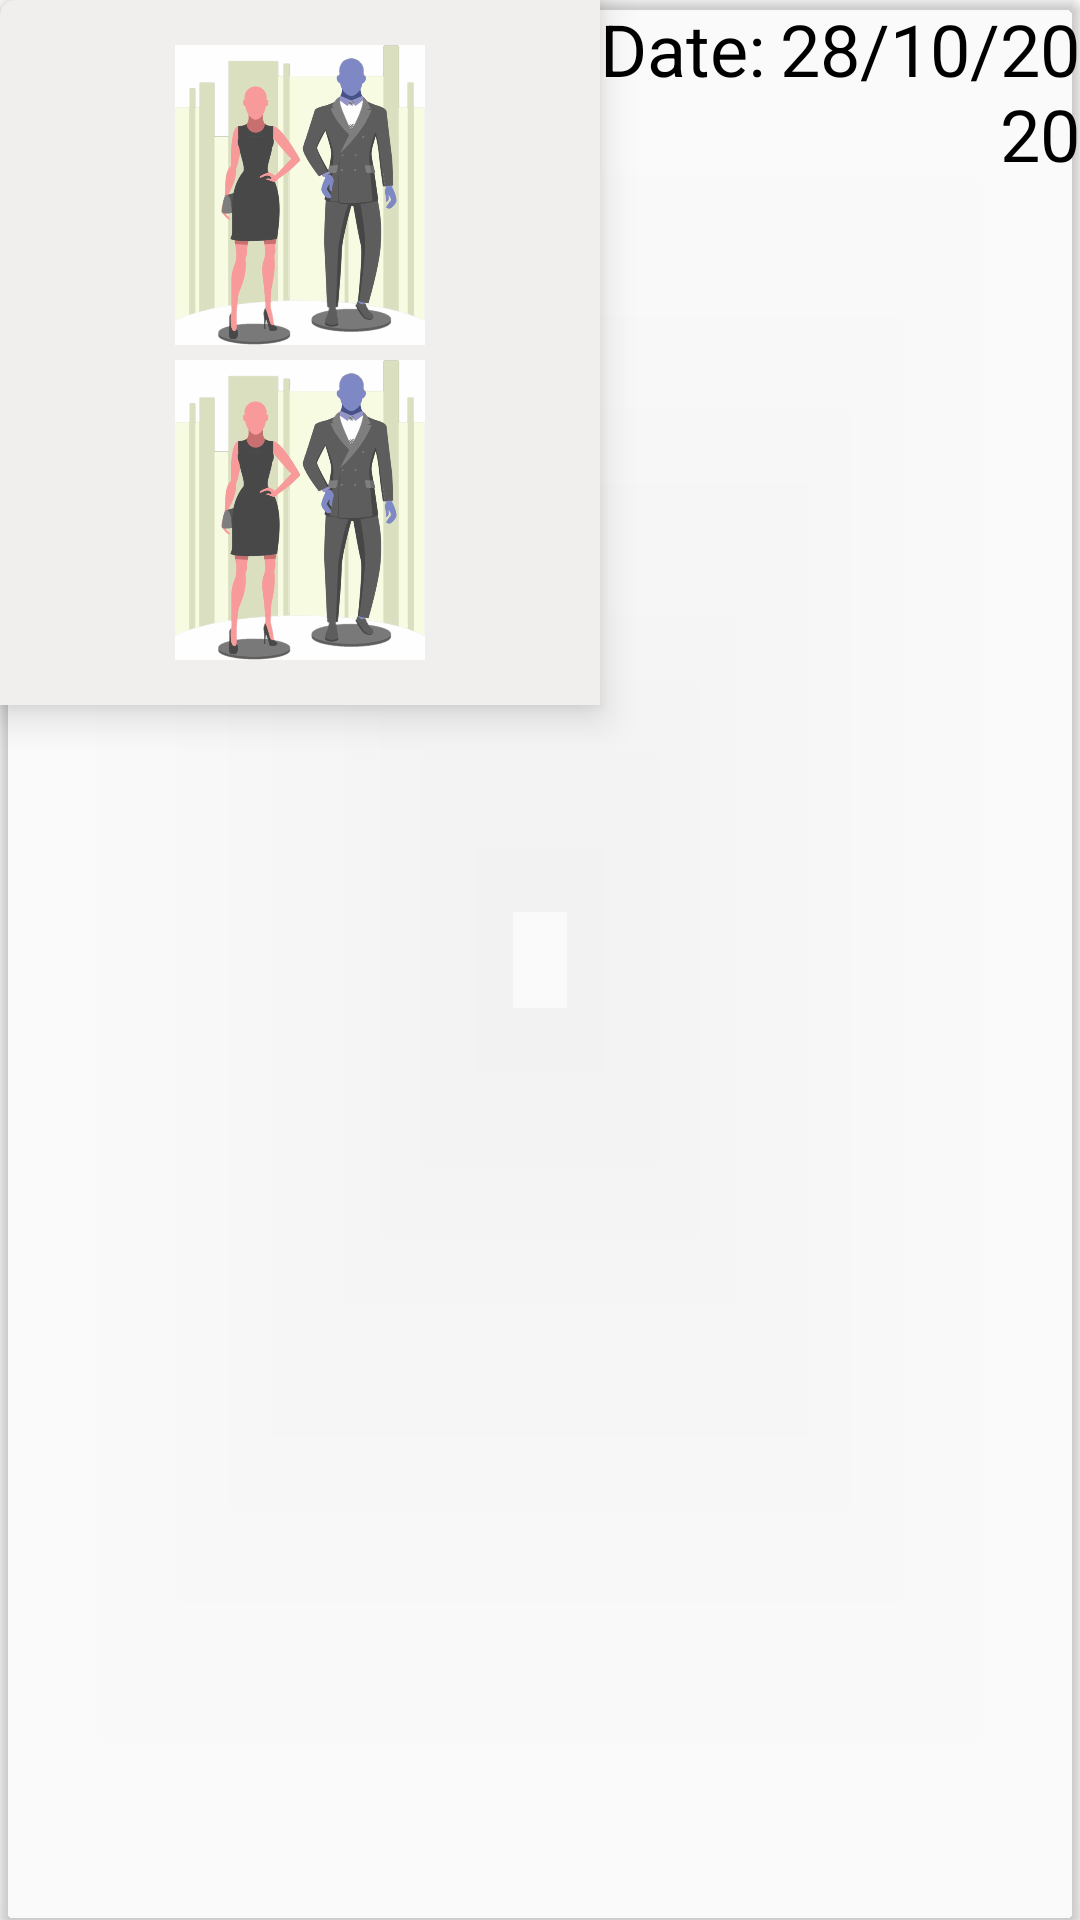

Icon bounding boxes for this 1080x1920 phone screenshot, format detection(x1, y1, x2, y2):
fanshion: detection(189, 45, 414, 345), detection(189, 360, 414, 660)
